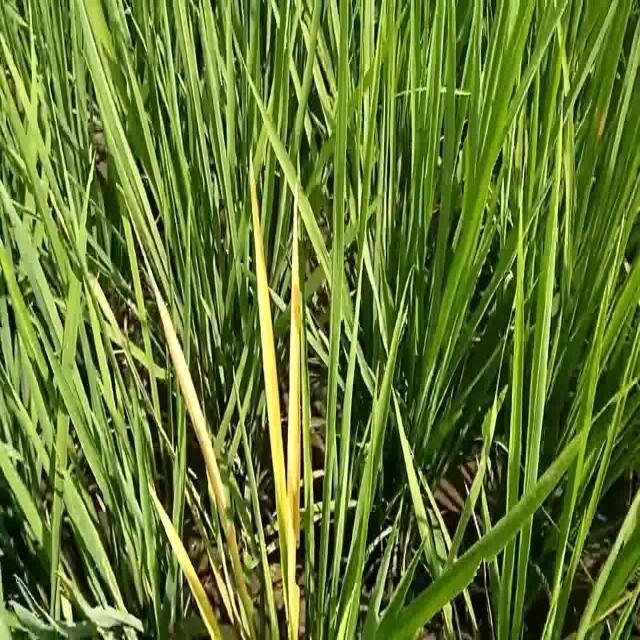Rice Tungro: (243, 137, 286, 603), (144, 479, 218, 640), (285, 153, 307, 586)
